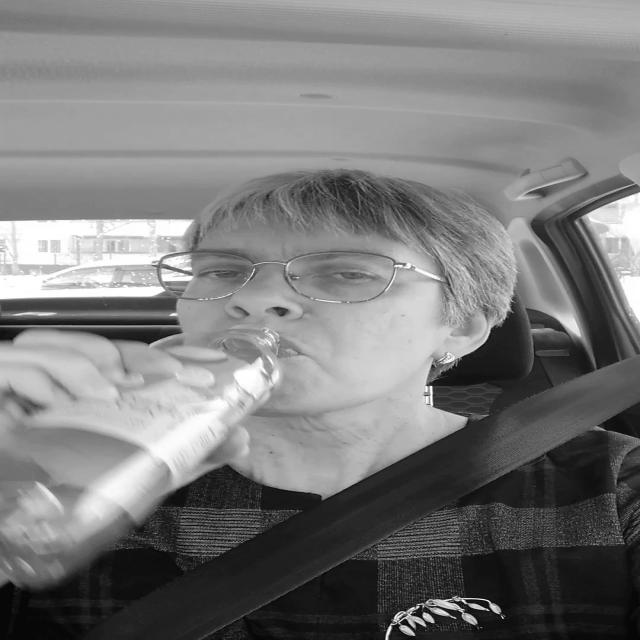Drinking: (9, 331, 290, 587)
Seatbelt: (83, 358, 640, 639)
